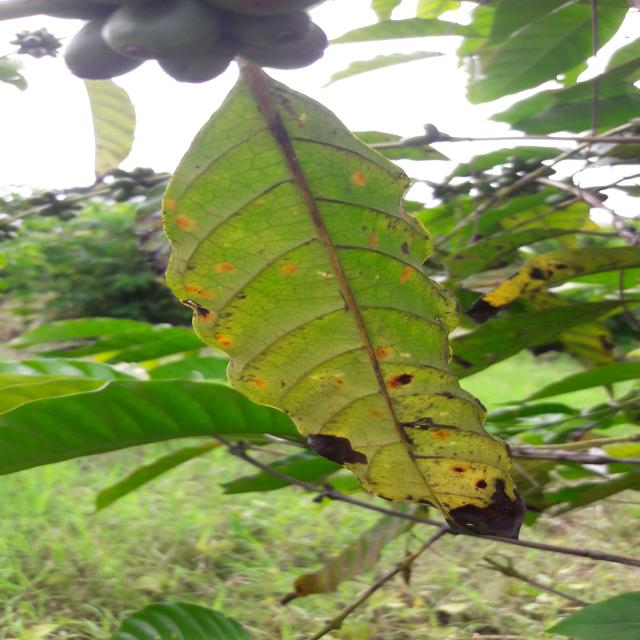Enfermedad-Roya: (160, 61, 526, 544)
